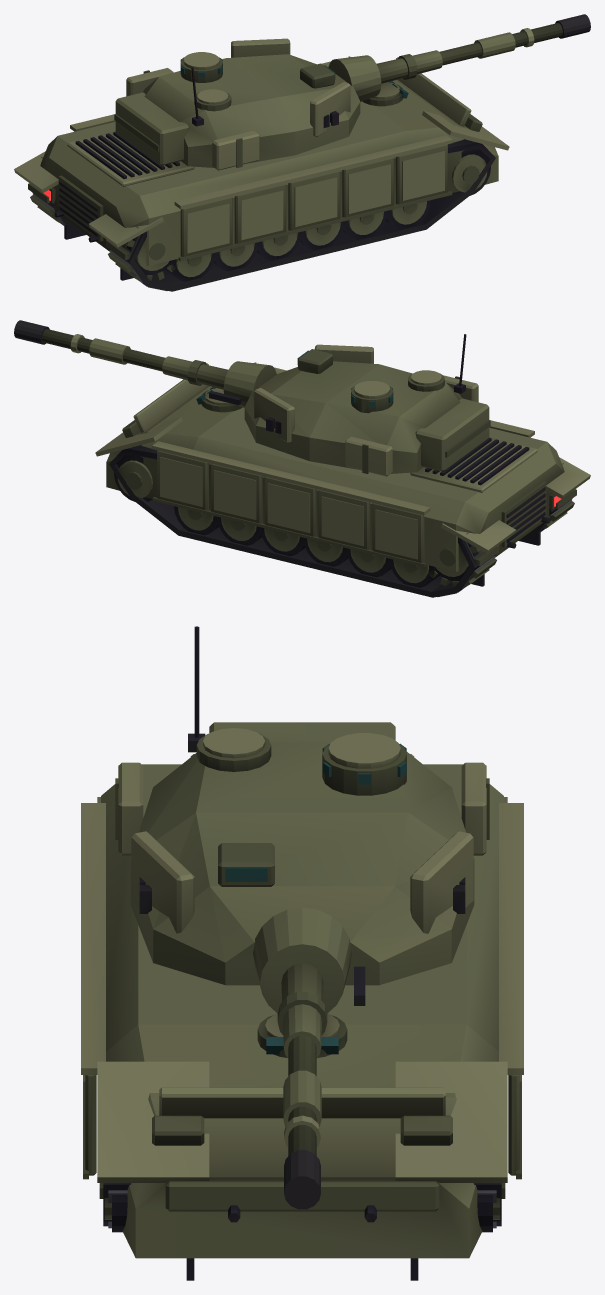
File: veh.tank.glb
3 views of the same model, one above another, from view 1: azimuth 30°, elevation 25°; view 2: azimuth 150°, elevation 25°; view 3: azimuth 270°, elevation 25° (orthographic). The views are drawn at different scales.
Visible parts, largest first — view 1: body, turret, gun; view 2: body, turret, gun; view 3: body, turret, gun.
Boxes of the visible parts, x1=… form: body: x1=14, y1=56, x2=509, y2=291; turret: x1=114, y1=38, x2=360, y2=170; gun: x1=328, y1=14, x2=590, y2=101; body: x1=95, y1=362, x2=590, y2=597; turret: x1=244, y1=334, x2=490, y2=476; gun: x1=14, y1=320, x2=276, y2=407; body: x1=81, y1=754, x2=523, y2=1280; turret: x1=115, y1=626, x2=489, y2=985; gun: x1=253, y1=907, x2=365, y2=1209.
Size of the model in its own units: 9.67 by 3.51 by 3.56.
